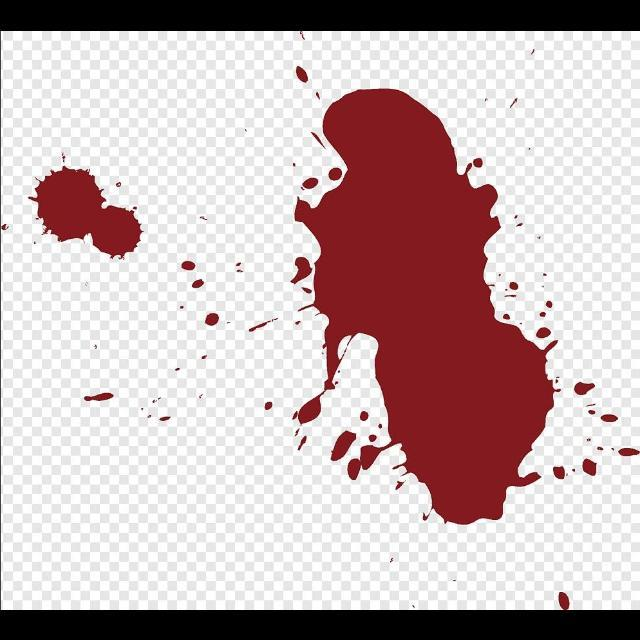blood: (292, 87, 561, 524), (27, 165, 144, 259)
